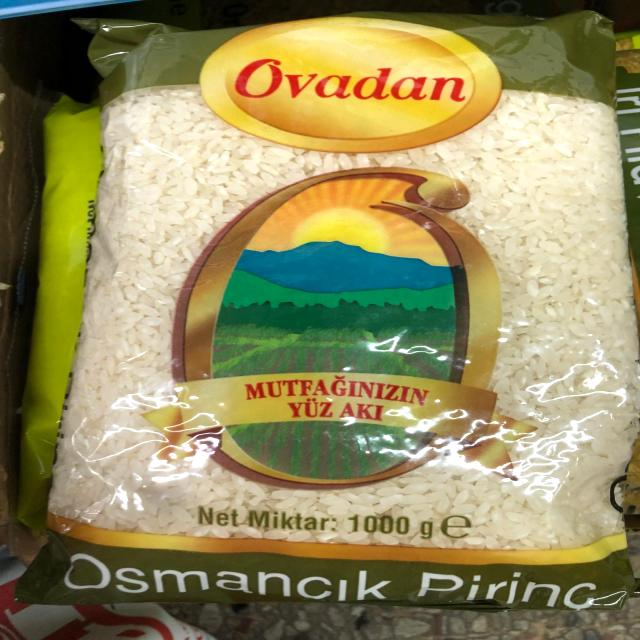rice: (41, 12, 636, 610)
